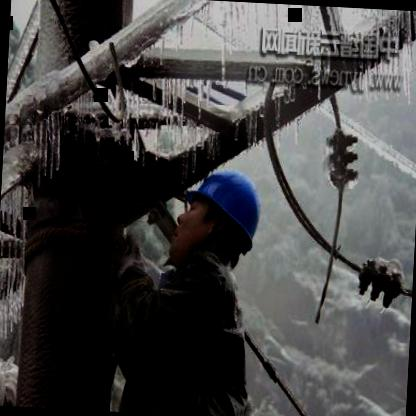helmet: (168, 152, 271, 278)
